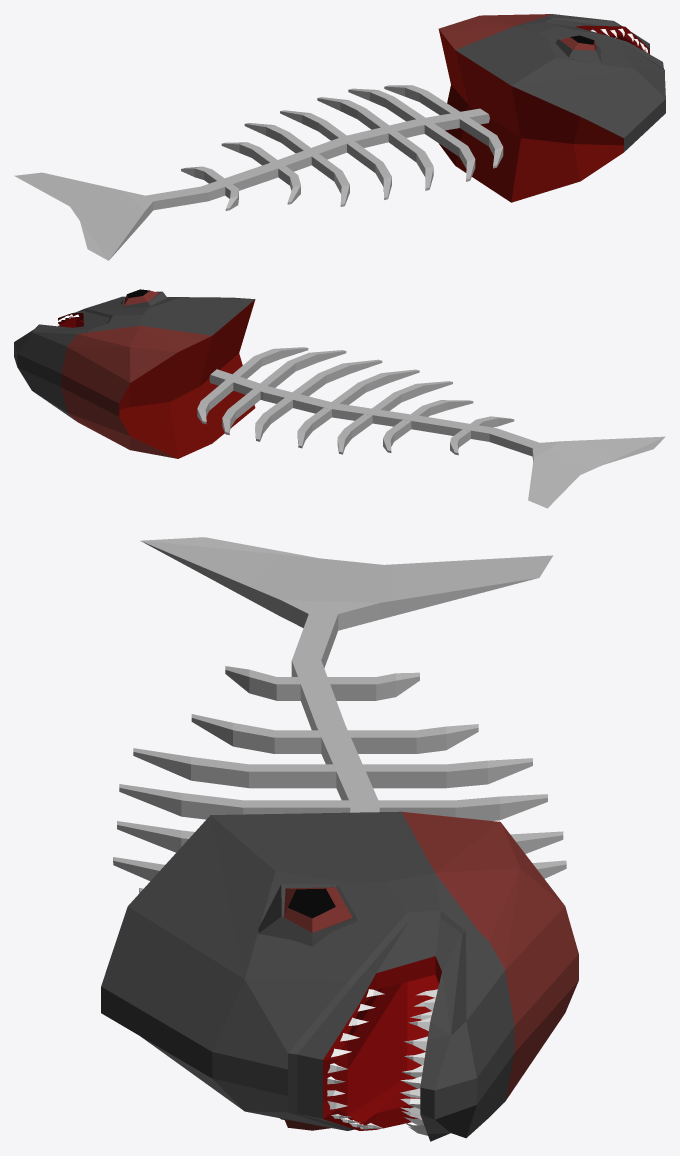
Rendered from GiantPiranhaSkeleton.obj.
3 renders of one model, top to bottom at view 1: azimuth 30°, elevation 25°; view 2: azimuth 150°, elevation 25°; view 3: azimuth 270°, elevation 25°, orthographic. The views are drawn at different scales.
Visible parts, largest first — view 1: GiantPiranhaSkeleton_0; view 2: GiantPiranhaSkeleton_0; view 3: GiantPiranhaSkeleton_0.
Boxes of the visible parts, x1=… form: GiantPiranhaSkeleton_0: x1=14, y1=14, x2=665, y2=260; GiantPiranhaSkeleton_0: x1=14, y1=289, x2=665, y2=508; GiantPiranhaSkeleton_0: x1=101, y1=537, x2=578, y2=1141.
Bounding box in the file's own units: 1.46 × 0.28 × 0.5185.
Materials: 1 (1 with a texture image).
